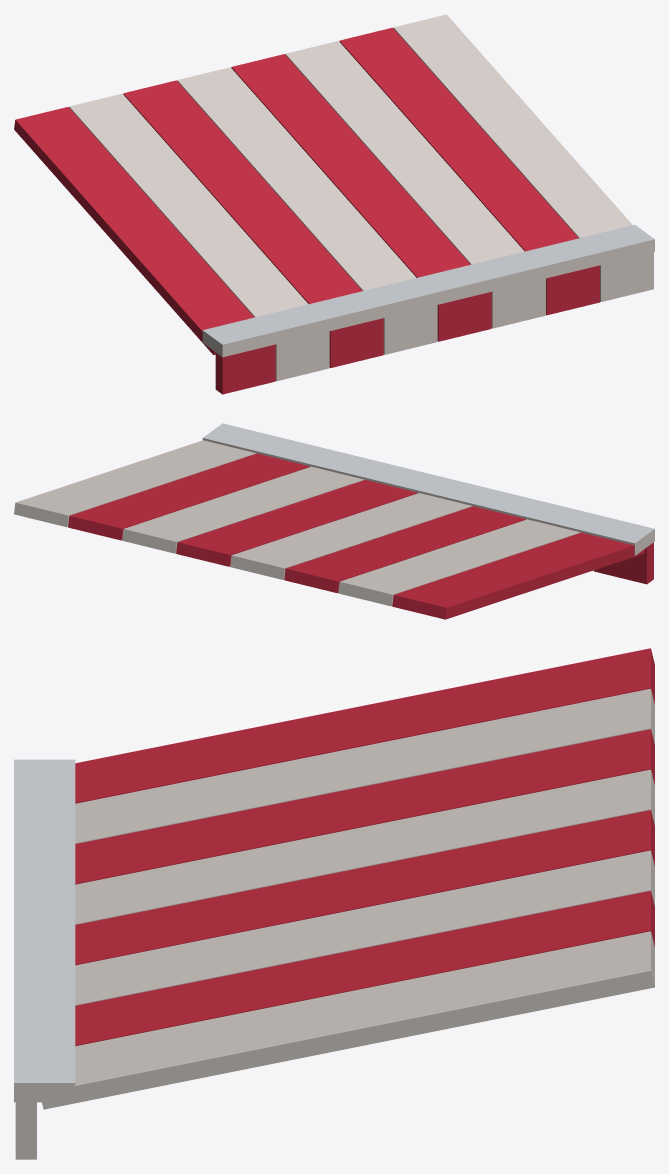
File: Stall_Red_Canopy.glb
3 renders of one model, top to bottom at view 1: azimuth 30°, elevation 25°; view 2: azimuth 150°, elevation 25°; view 3: azimuth 270°, elevation 25°, orthographic. The views are drawn at different scales.
Visible parts, largest first — view 1: Stall_Red_Canopy; view 2: Stall_Red_Canopy; view 3: Stall_Red_Canopy.
Boxes of the visible parts, x1=… form: Stall_Red_Canopy: x1=14, y1=14, x2=654, y2=394; Stall_Red_Canopy: x1=14, y1=423, x2=654, y2=619; Stall_Red_Canopy: x1=14, y1=648, x2=654, y2=1159.
Bounding box in the file's own units: 9 × 2.45 × 7.54.
